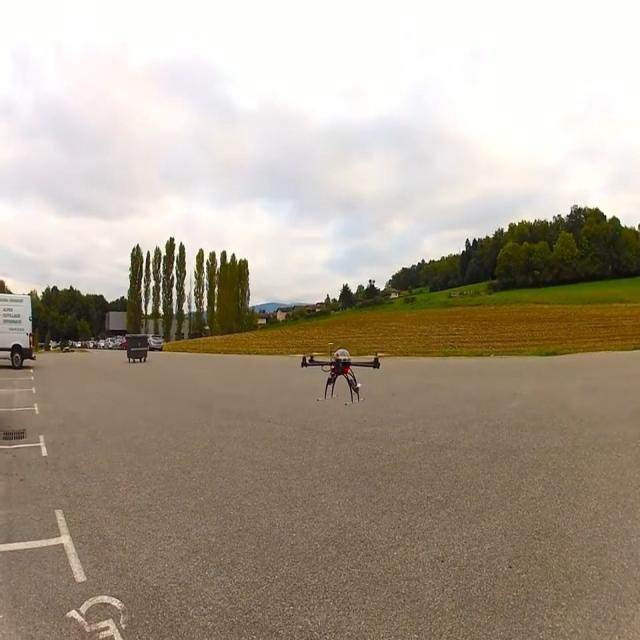drone: (300, 342, 381, 404)
